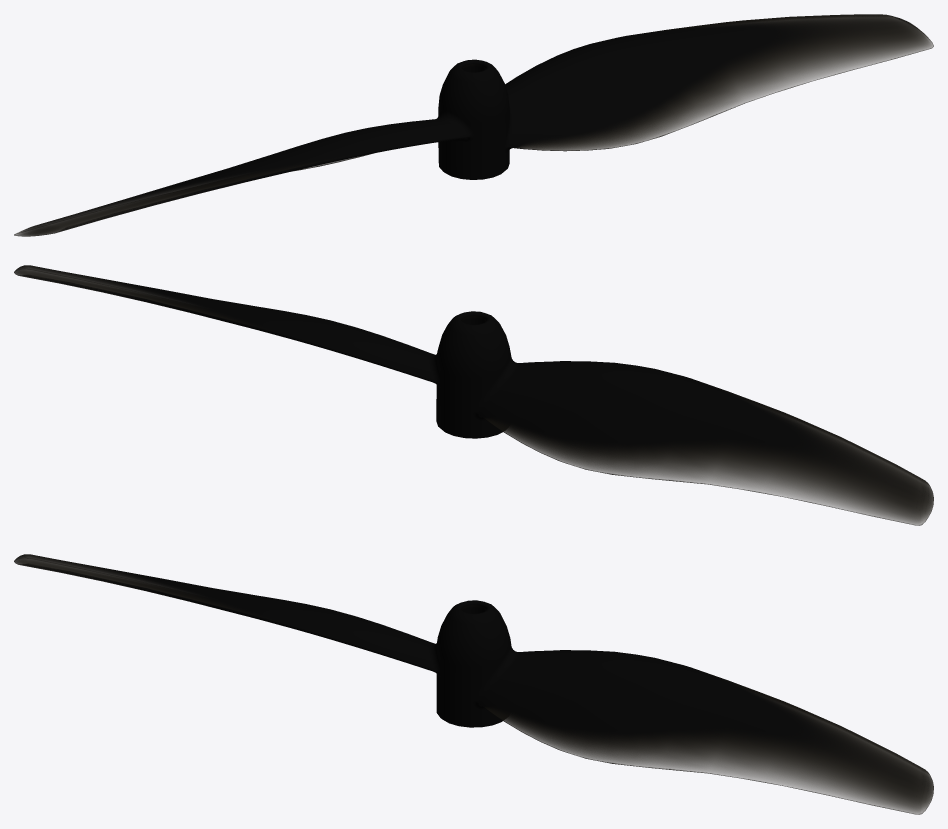
The model's file is 65mm_bi-blade_propeller.glb.
3 views of the same model, one above another, from view 1: azimuth 30°, elevation 25°; view 2: azimuth 150°, elevation 25°; view 3: azimuth 330°, elevation 25° (orthographic). The views are drawn at different scales.
Parts seen in each view (by area): view 1: 65mmPropLOD1; view 2: 65mmPropLOD1; view 3: 65mmPropLOD1.
Part boxes in pixels (box(x1,y1,x2,y2)): 65mmPropLOD1: box(14, 14, 933, 236); 65mmPropLOD1: box(14, 265, 933, 525); 65mmPropLOD1: box(14, 554, 933, 814).
Bounding box in the file's own units: 0.0647 × 0.00694 × 0.00726.
Materials: 1 (1 with a texture image).
